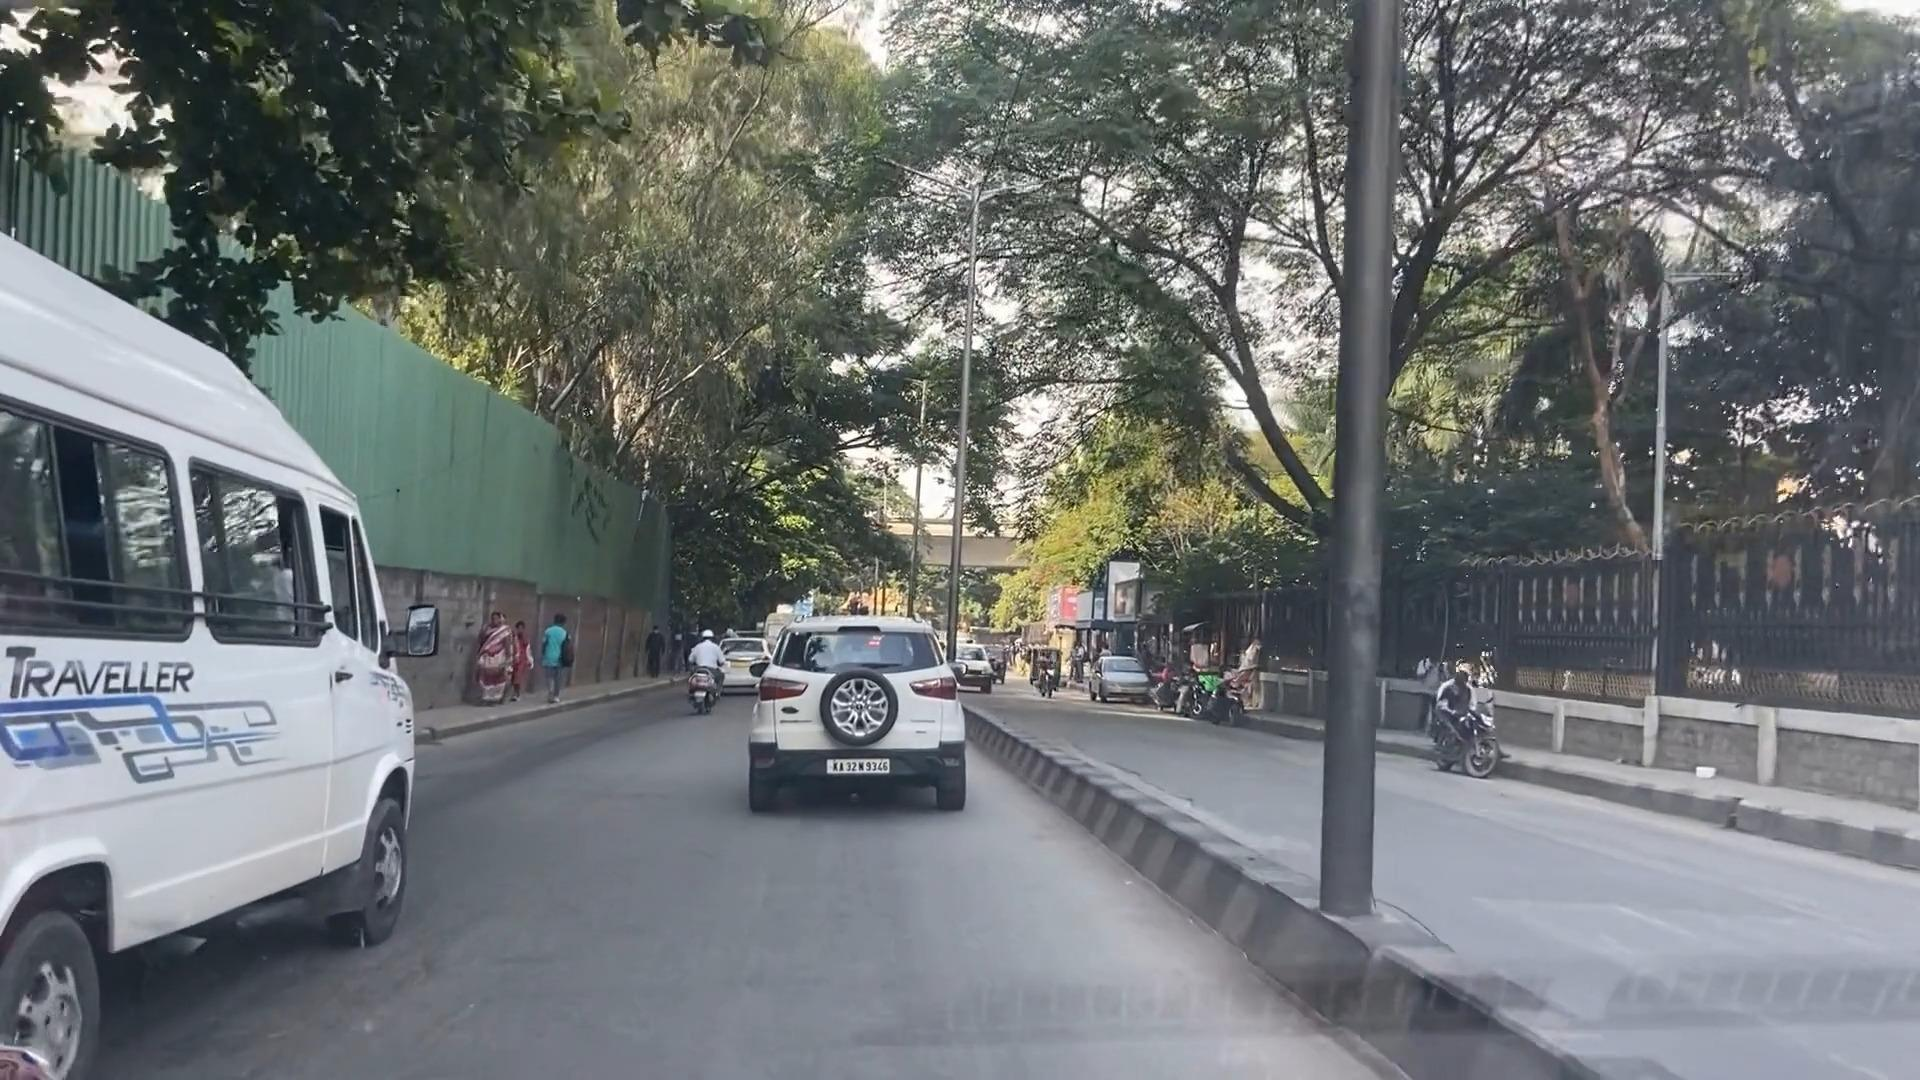HMV: (0, 208, 422, 1026)
LMV: (725, 597, 967, 828)
